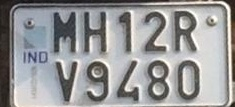character: (51, 10, 78, 54), (54, 59, 81, 103), (143, 9, 169, 52), (115, 58, 140, 102), (173, 9, 198, 52), (85, 59, 110, 102), (176, 58, 201, 100), (83, 10, 107, 53), (146, 59, 170, 100), (117, 9, 133, 52)
